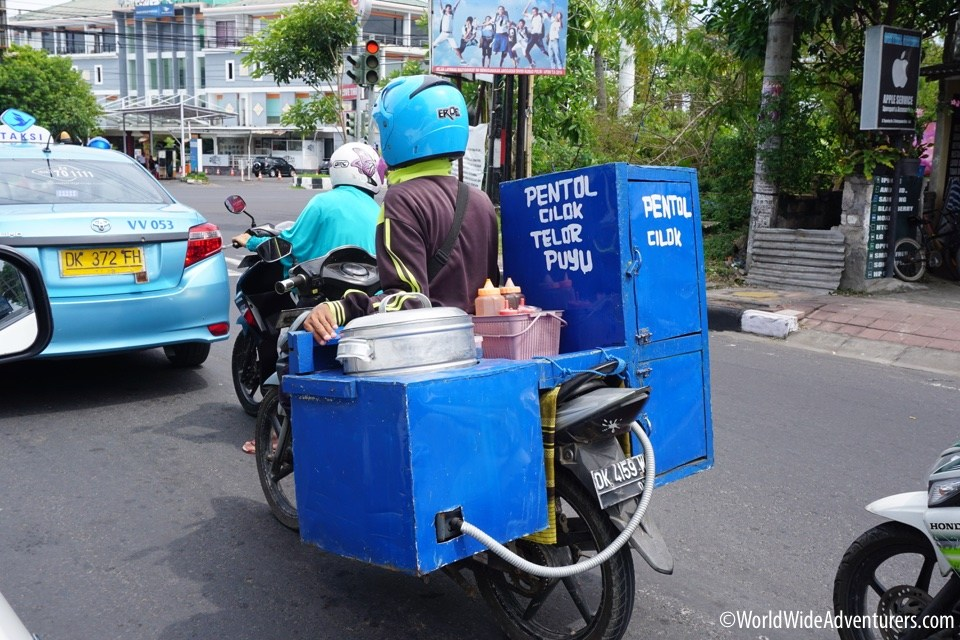with_helmet: (367, 83, 471, 158)
